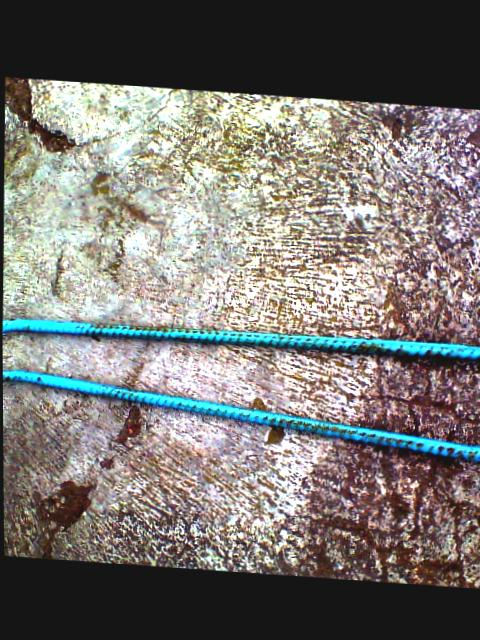crow bar: (2, 358, 480, 460), (2, 294, 480, 377)
